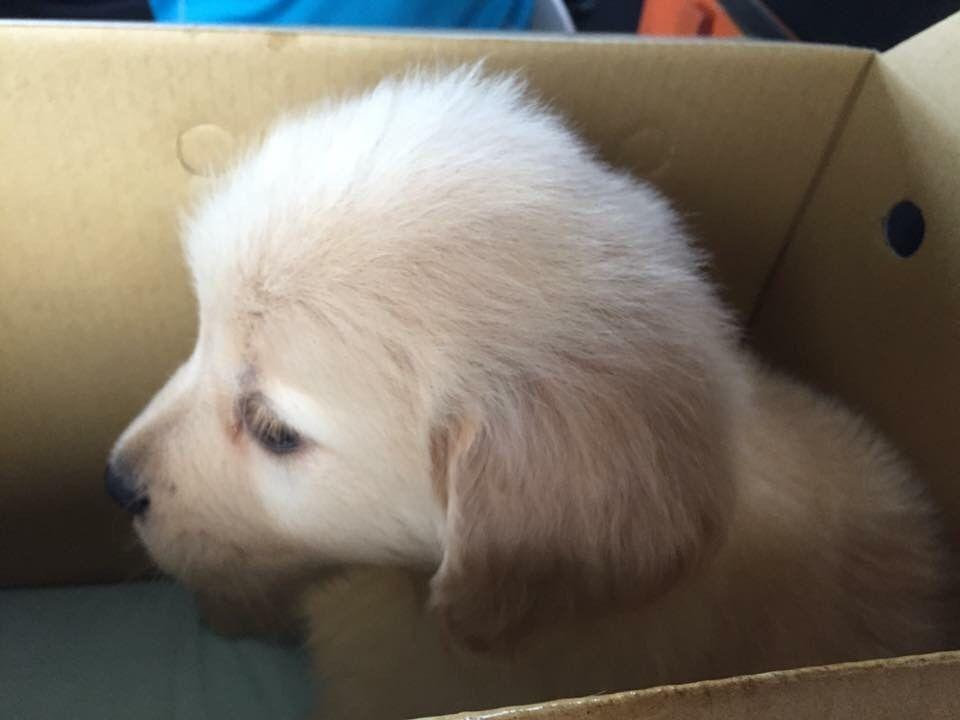puppy-dog: (100, 61, 960, 715)
